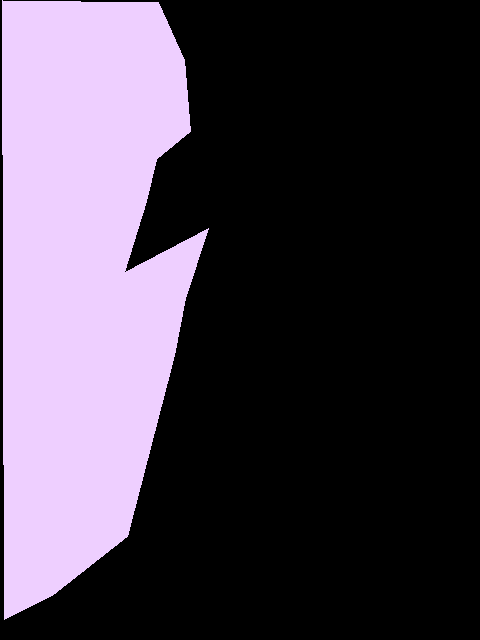Train: (2, 0, 208, 619)
